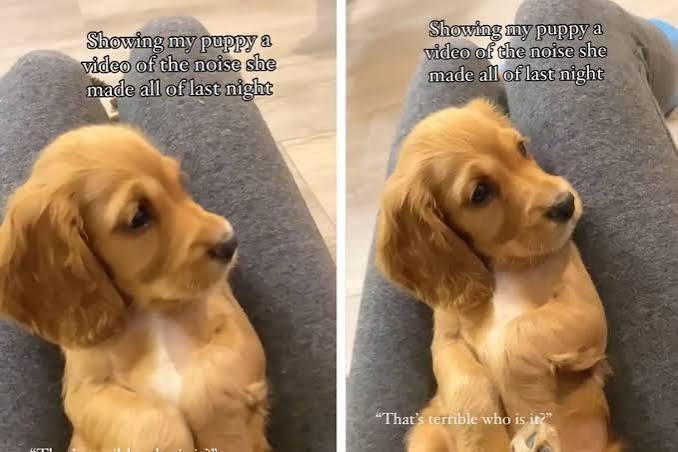puppy-dog: (374, 101, 637, 452), (0, 124, 275, 452)
